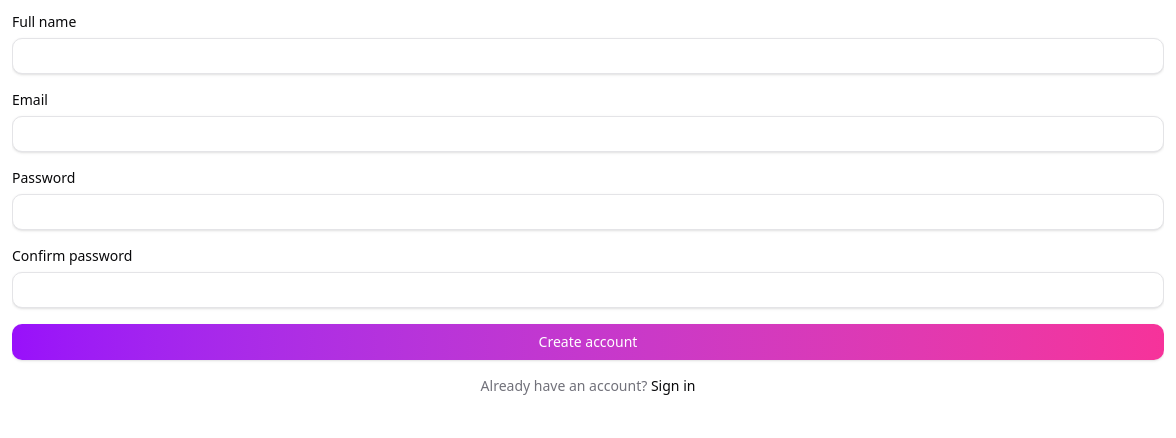
RegisterForm › shows a validation error when passwords do not match
The width and height of the screenshot is (1176, 438).
Type "Jane Doe" into the field labelled "Full name" at (588, 56), box [12,38,1164,74]
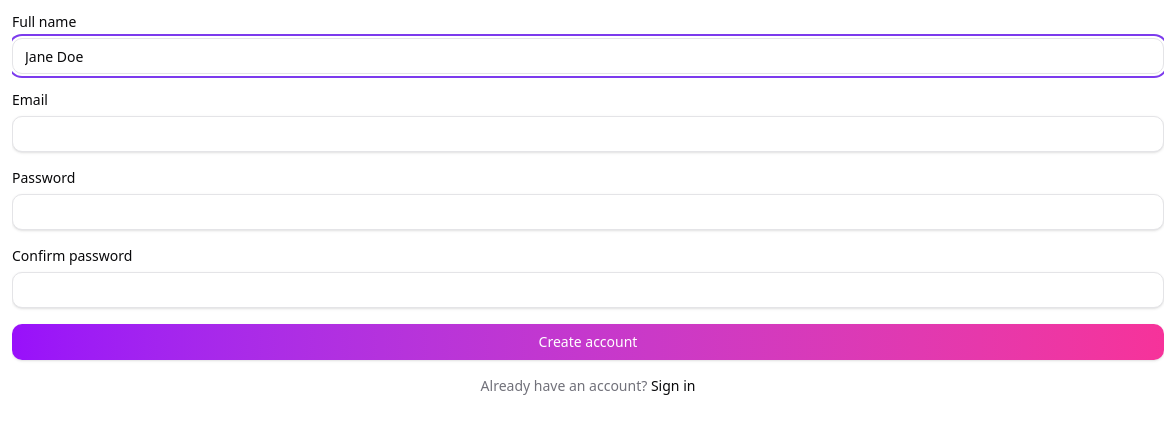
Type "jane@example.com" into the field labelled "Email" at (588, 134), box [12,116,1164,152]
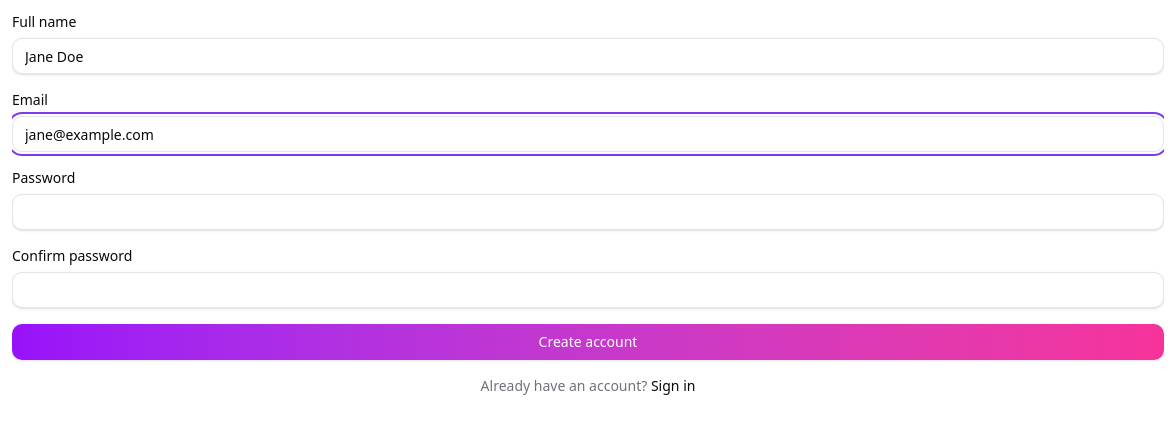
Type "password123" into the password field labelled "Password" at (588, 212), box [12,194,1164,230]
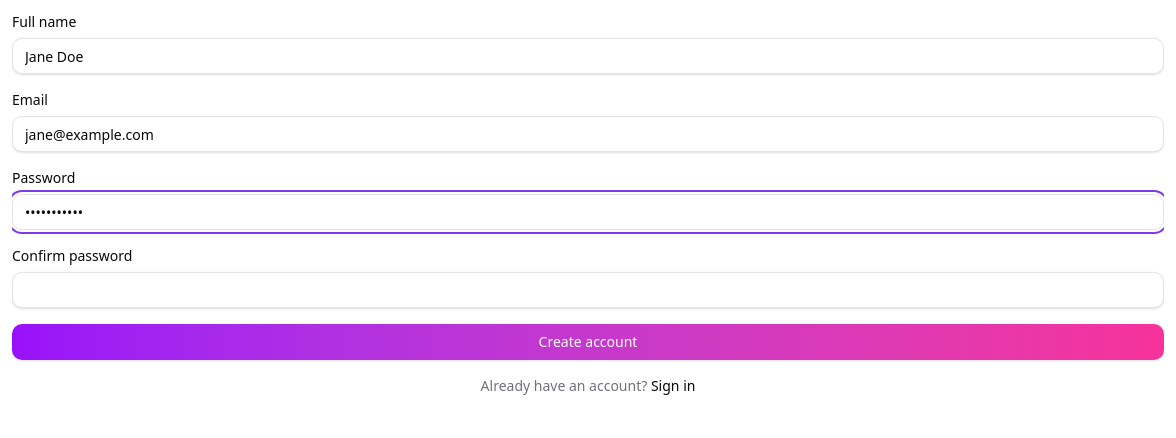
Type "password124" into the password field labelled "Confirm password" at (588, 290), box [12,272,1164,308]
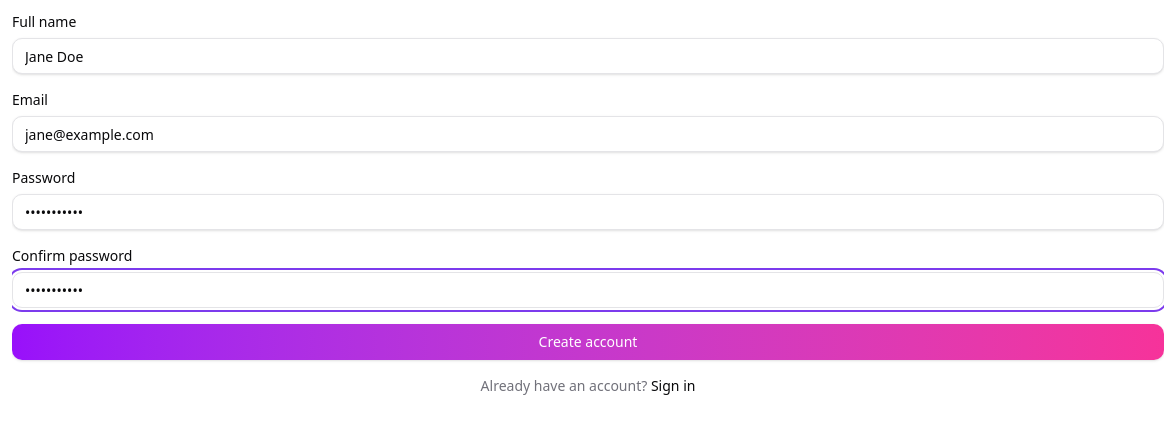
Click the button "Create account" at (588, 342), box [12,324,1164,360]
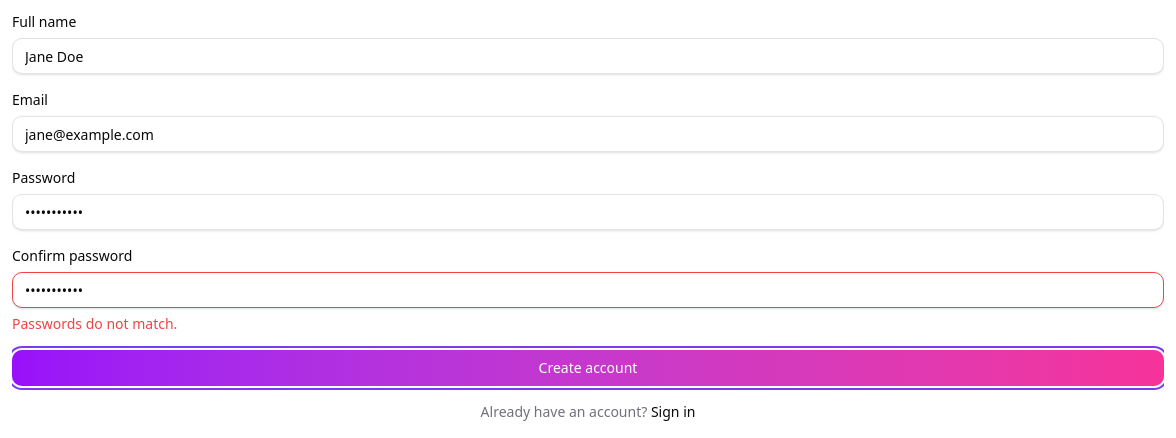
expect the text "Passwords do not match." is shown: met, box [12,314,177,333]
